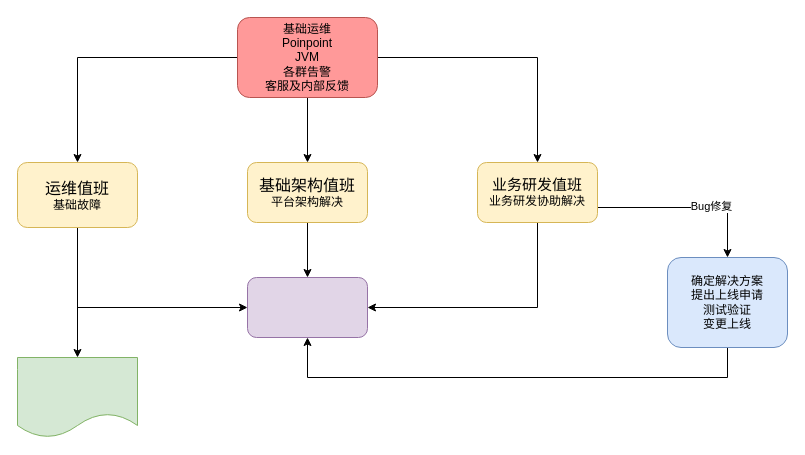
This 805x455 diagram has some shape labels left out. The shapes that lost their labels are listed below. From the top down, each one's box as (x1, y1, x2, y2) in pixels, then its label:
(246, 276, 368, 338): A队 各方同步状态及结果
(16, 356, 138, 438): 解决
